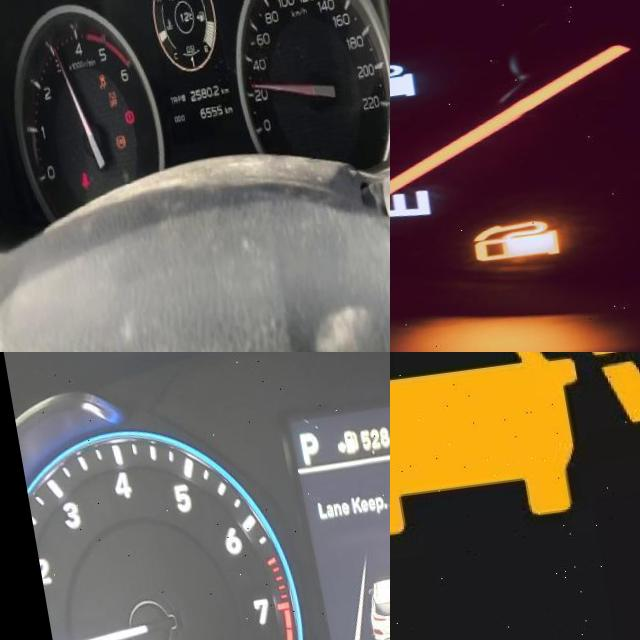Seat Belt: (65, 177, 78, 196)
